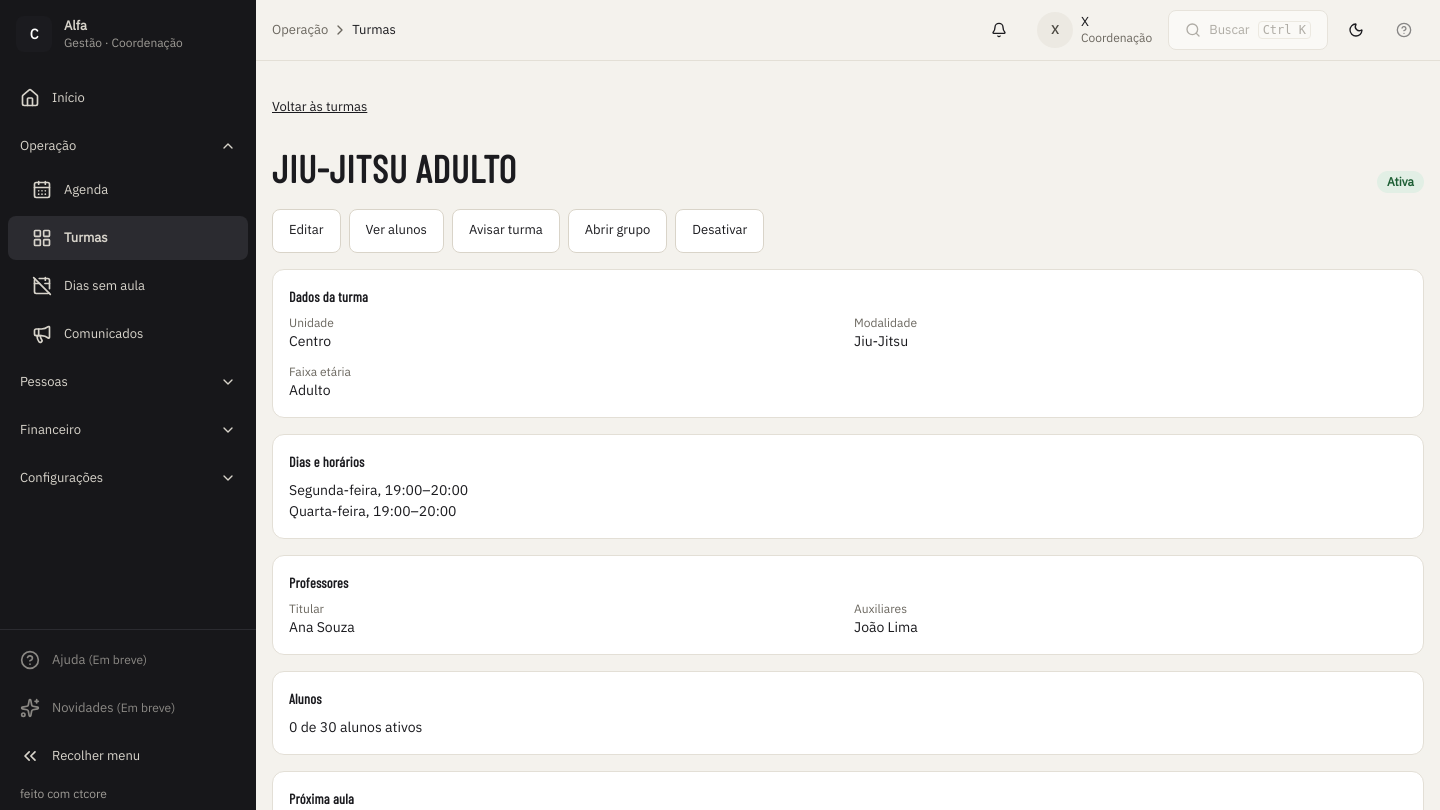
ClassPanelPage (RF-TUR-02) › CA9: sem alunos principais confirmar desativa e o painel passa a Desativada
Click the button "Desativar".
click(720, 230)  # box [675,208,764,252]
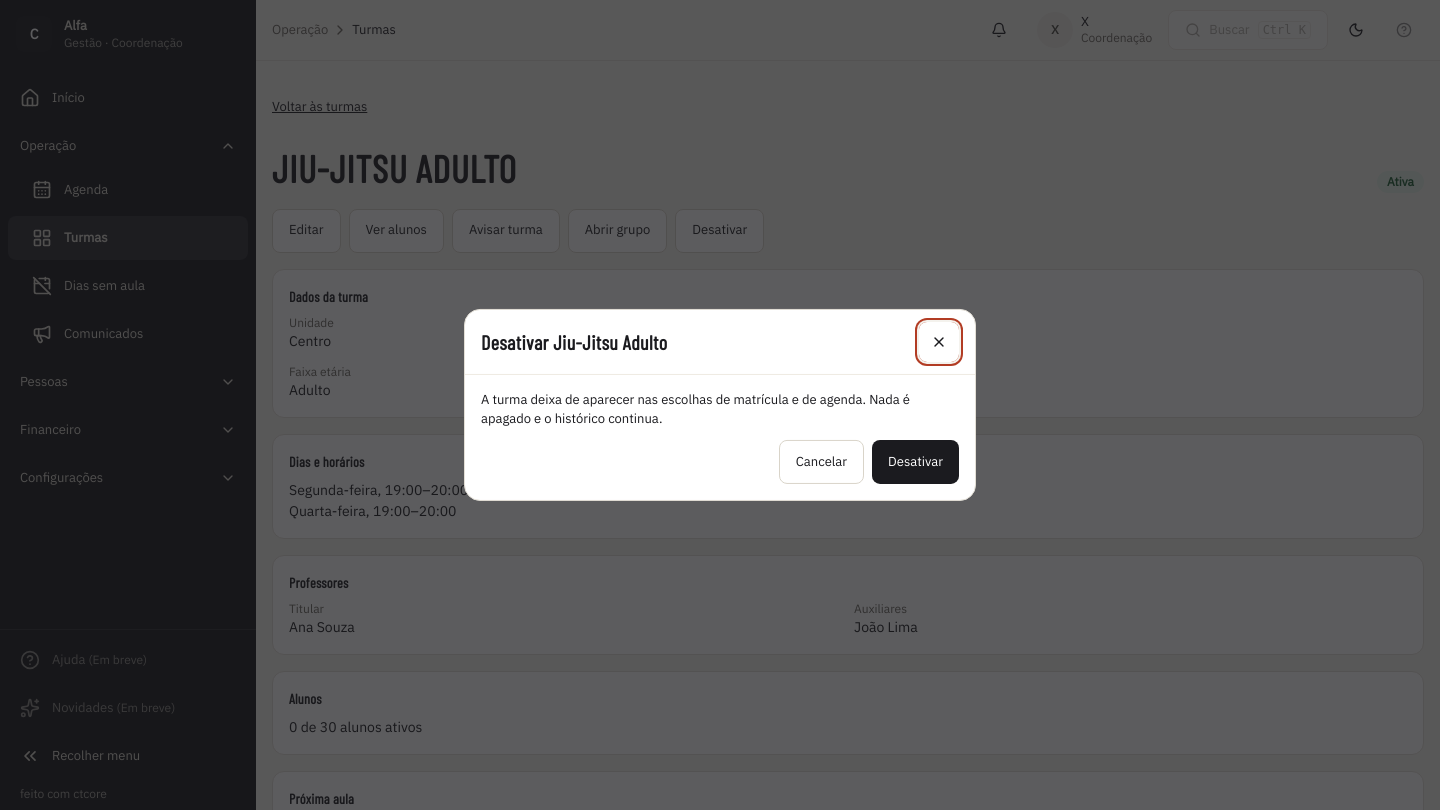
Click the button "Desativar".
click(916, 462)  # box [872,440,959,484]
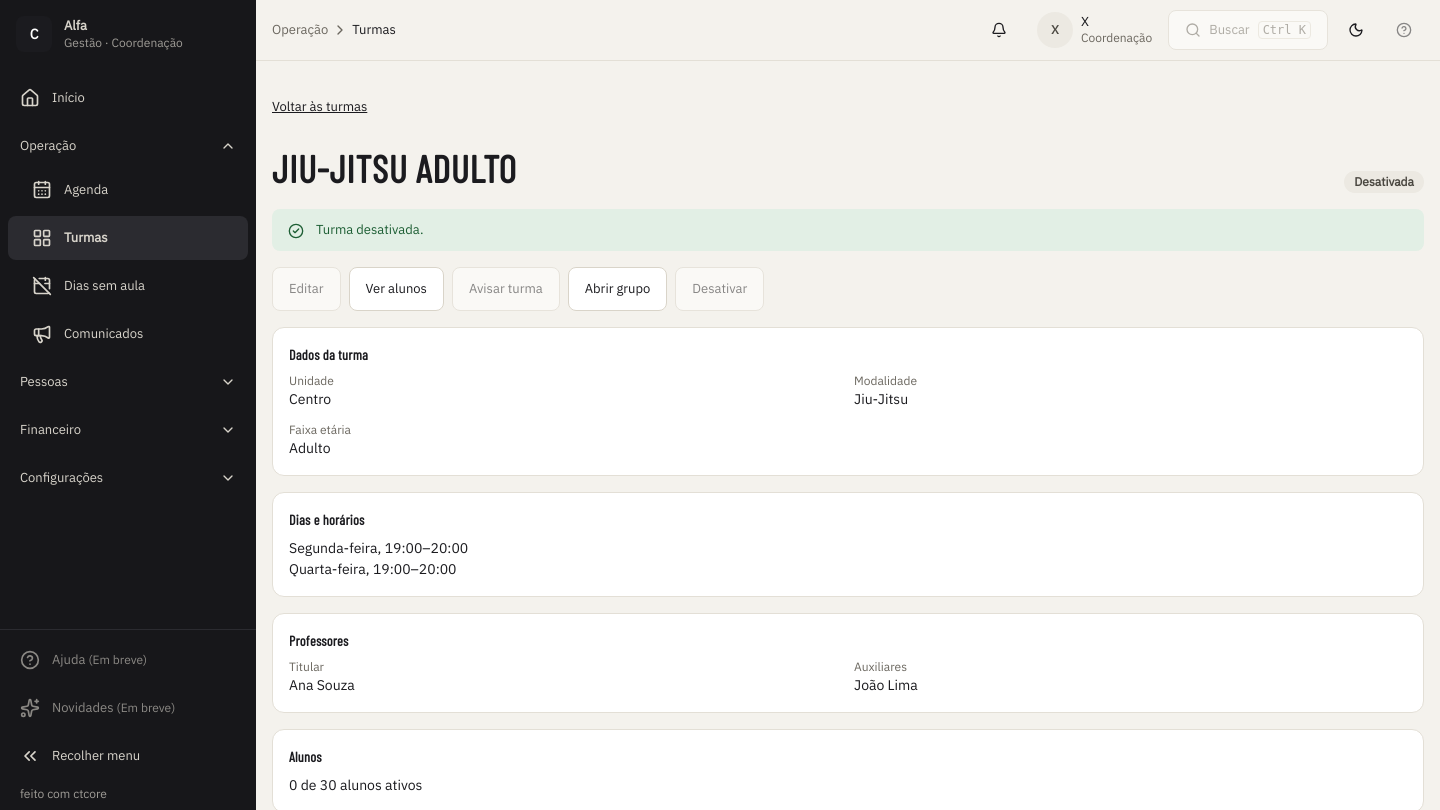
Now the text "Turma desativada." is shown, box [316,220,423,239]
Now the text "Desativada" is shown, box [1344,170,1424,192]
Now the button "Desativar" is disabled, box [675,267,764,311]
